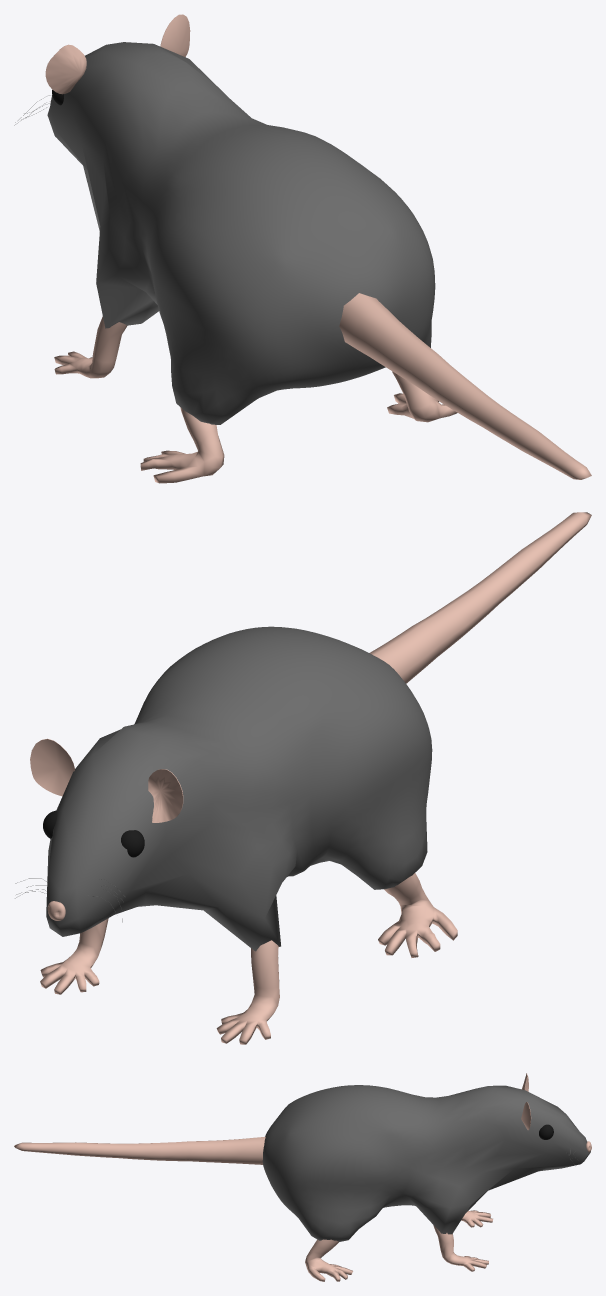
File: LBSR_Rat.fbx
3 renders of one model, top to bottom at view 1: azimuth 30°, elevation 25°; view 2: azimuth 150°, elevation 25°; view 3: azimuth 270°, elevation 25°, orthographic. The views are drawn at different scales.
Visible parts, largest first — view 1: body, tail, leg_back_left, leg_front_left, leg_back_right, ear_left, ear_right; view 2: body, tail, leg_back_left, leg_front_left, leg_front_right, ear_right, ear_left; view 3: body, tail, leg_back_right, leg_front_right, leg_front_left.
Boxes of the visible parts, x1,y1,x2,y2 form: body: (47,42,435,424); tail: (339,293,591,479); leg_back_left: (140,407,224,483); leg_front_left: (54,316,127,378); leg_back_right: (387,371,457,422); ear_left: (45,44,86,94); ear_right: (160,14,190,56); body: (46,626,432,951); tail: (369,512,591,683); leg_back_left: (378,873,457,957); leg_front_left: (216,940,279,1044); leg_front_right: (40,918,108,994); ear_right: (30,738,74,796); ear_left: (148,769,183,822); body: (262,1085,590,1241); tail: (14,1136,265,1164); leg_back_right: (305,1239,352,1281); leg_front_right: (433,1225,488,1271); leg_front_left: (461,1210,492,1227).
Size of the model in its own units: 0.1662 by 0.1486 by 0.4933.
